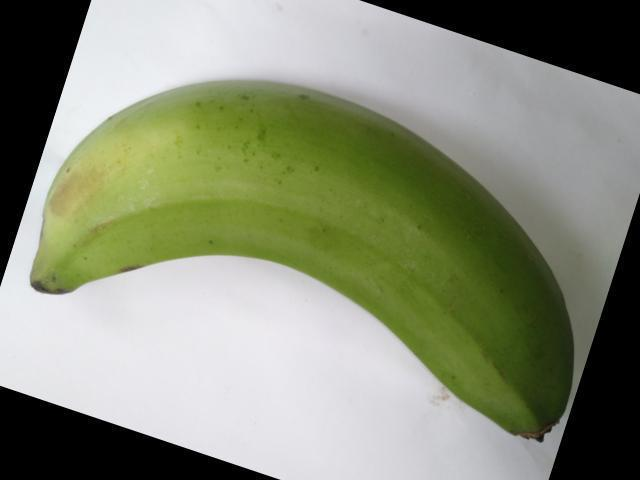freshunripe: (9, 71, 586, 456)
